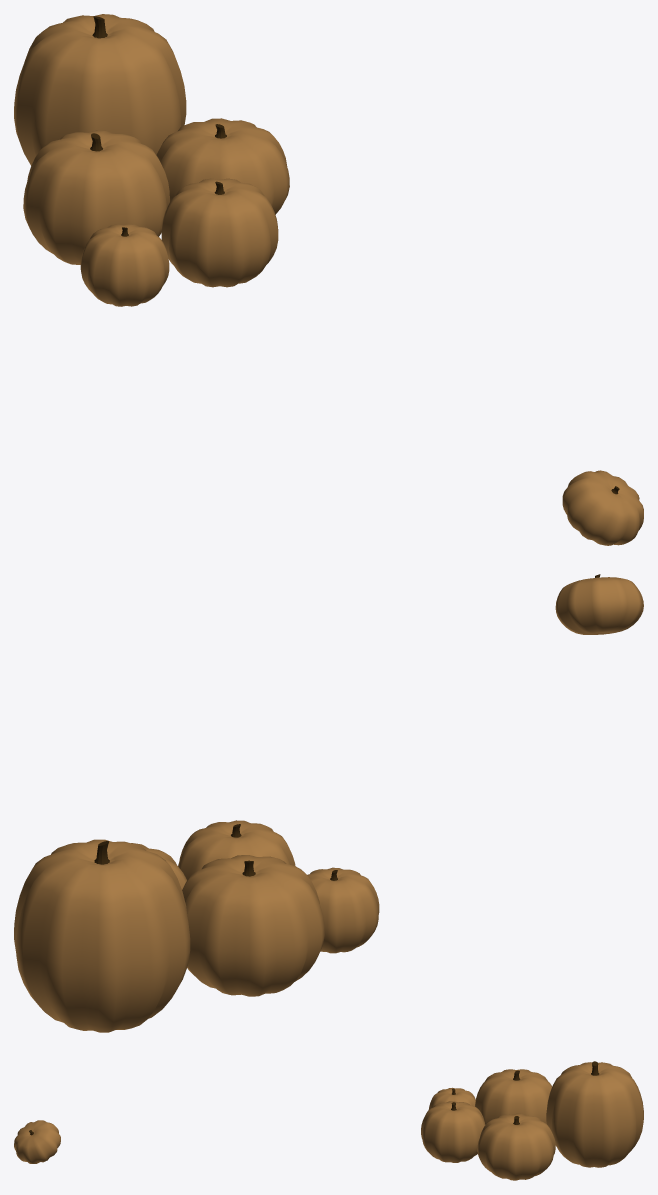
Rendered from Pumpkins.fbx.
3 renders of one model, top to bottom at view 1: azimuth 30°, elevation 25°; view 2: azimuth 150°, elevation 25°; view 3: azimuth 270°, elevation 25°, orthographic. The views are drawn at different scales.
Parts seen in each view (by area): view 1: pasted__pSphere7, pasted__pSphere2, pasted__pSphere3, pasted__pSphere5, pasted__pSphere4, pasted__pSphere6; view 2: pasted__pSphere7, pasted__pSphere2, pasted__pSphere4, pasted__pSphere6, pasted__pSphere3; view 3: pasted__pSphere7, pasted__pSphere5, pasted__pSphere3, pasted__pSphere2, pasted__pSphere6, pasted__pSphere4.
Boxes of the visible parts, x1,y1,x2,y2 form: pasted__pSphere7: [14, 14, 186, 165]; pasted__pSphere2: [23, 130, 169, 264]; pasted__pSphere3: [161, 178, 278, 287]; pasted__pSphere5: [156, 118, 289, 214]; pasted__pSphere4: [80, 224, 169, 306]; pasted__pSphere6: [562, 470, 643, 545]; pasted__pSphere7: [14, 839, 190, 1032]; pasted__pSphere2: [182, 855, 324, 996]; pasted__pSphere4: [307, 867, 379, 953]; pasted__pSphere6: [555, 574, 643, 634]; pasted__pSphere3: [178, 820, 295, 880]; pasted__pSphere7: [546, 1061, 643, 1167]; pasted__pSphere5: [477, 1113, 555, 1180]; pasted__pSphere3: [421, 1101, 485, 1162]; pasted__pSphere2: [475, 1069, 552, 1124]; pasted__pSphere6: [14, 1120, 60, 1163]; pasted__pSphere4: [429, 1087, 475, 1109].
Bounding box in the file's own units: 2.04 × 1.33 × 7.86.
